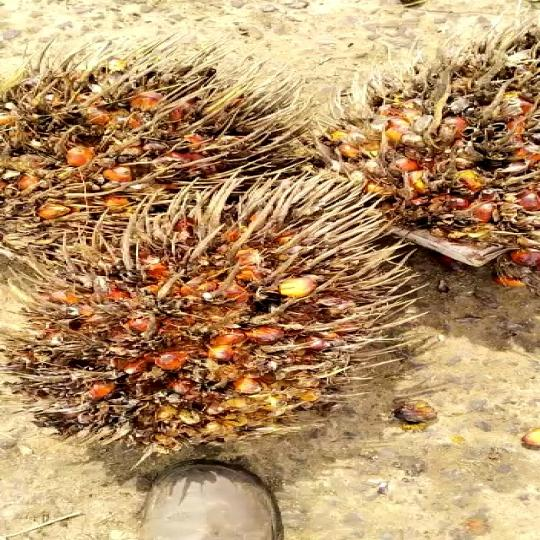terlalu masak: (0, 167, 435, 468), (0, 64, 321, 224), (345, 41, 540, 260)
